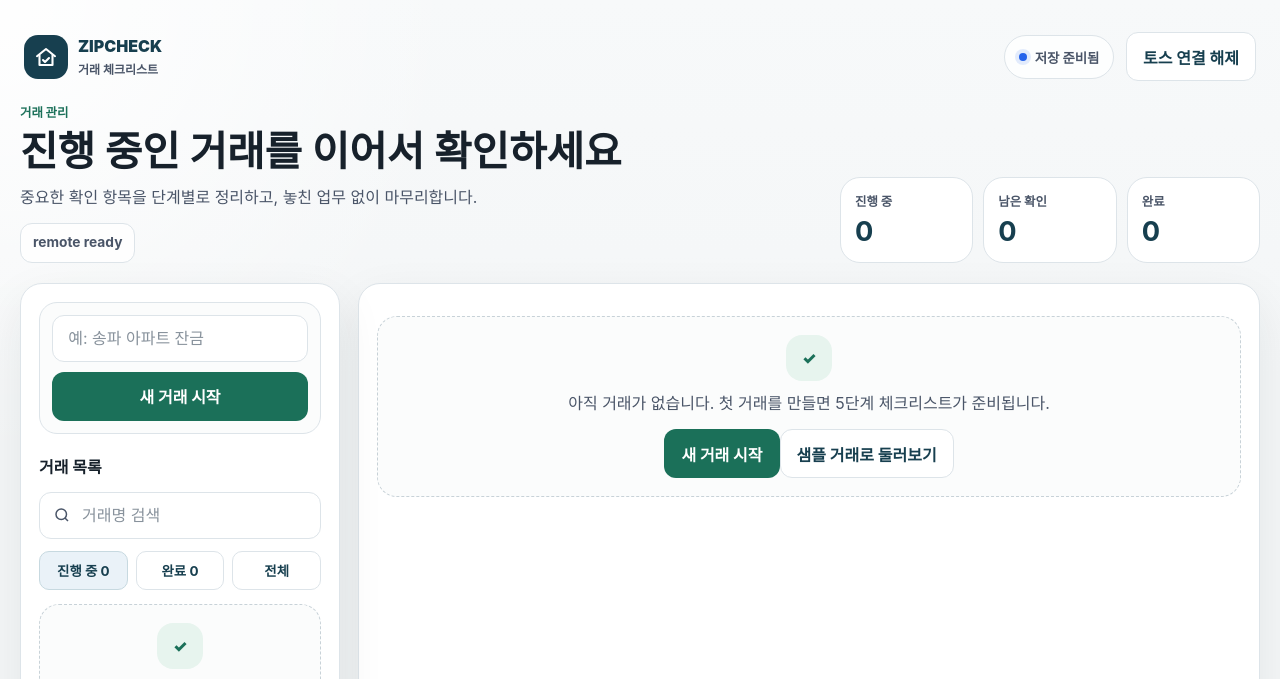
Test: App Toss connection verification › verifies a persisted core marker before showing disconnect, then clears cases and analytics on local disconnect
The image size is (1280, 679).
Check: the button "토스 연결 해제" is shown, box x1=1126 y1=32 x2=1256 y2=81
Type "검증된 연결 해제 거래" into the field named "거래명" at (180, 338), box x1=52 y1=315 x2=308 y2=362
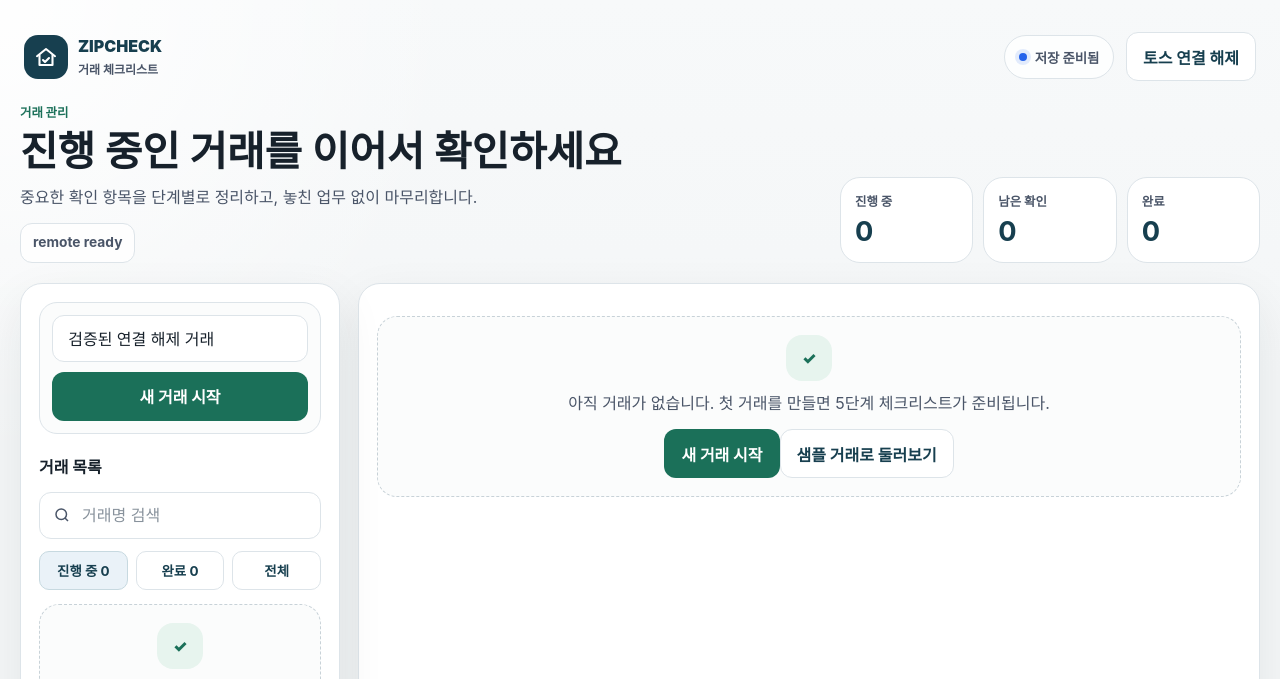
Click the 1st button "새 거래 시작" at (180, 396), box x1=52 y1=372 x2=308 y2=421
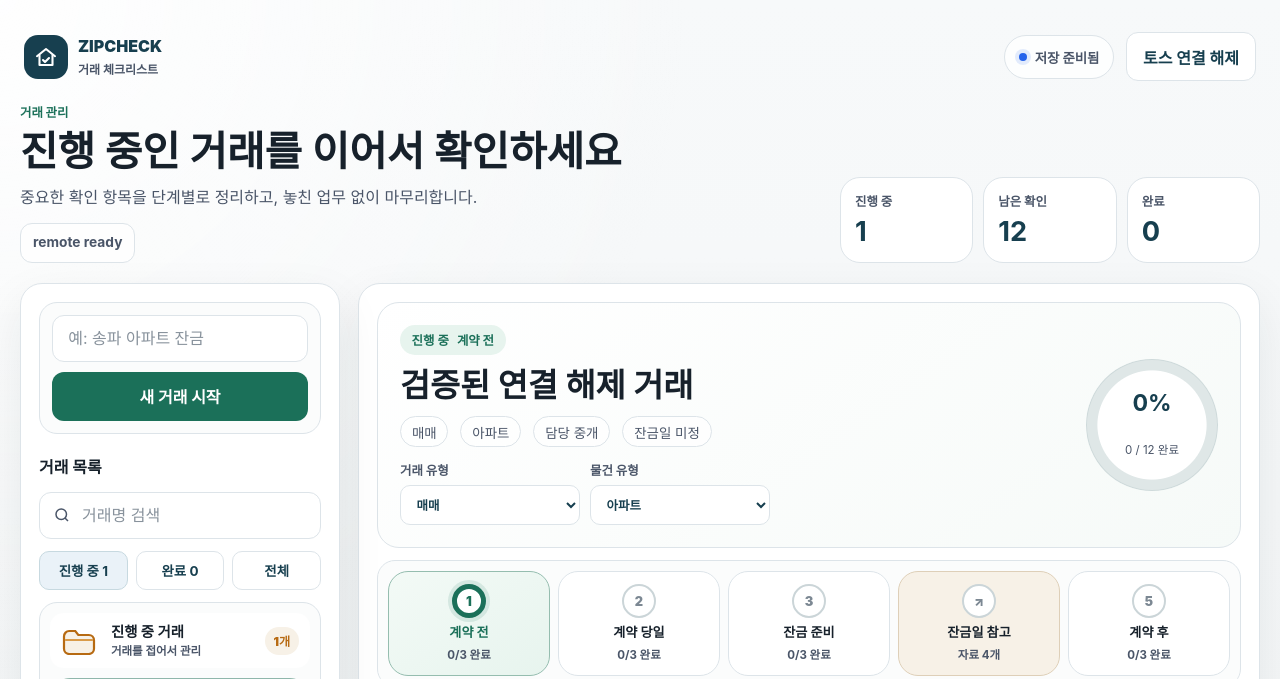
Click the button "토스 연결 해제" at (1191, 56), box x1=1126 y1=32 x2=1256 y2=81
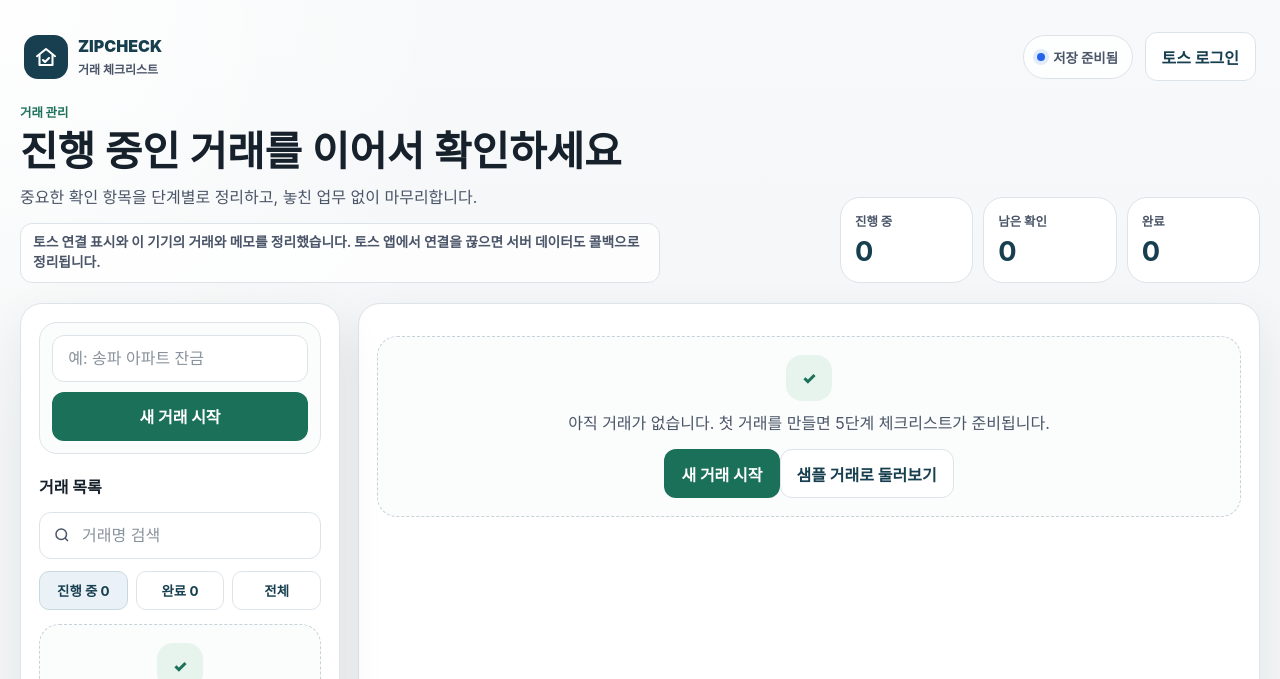
Check: the text "토스 연결 표시와 이 기기의 거래와 메모를 정리했습니다. 토스 앱에서 연결을 끊으면 서버 데이터도 콜백으로 정리됩니다." is shown, box x1=20 y1=223 x2=660 y2=283
